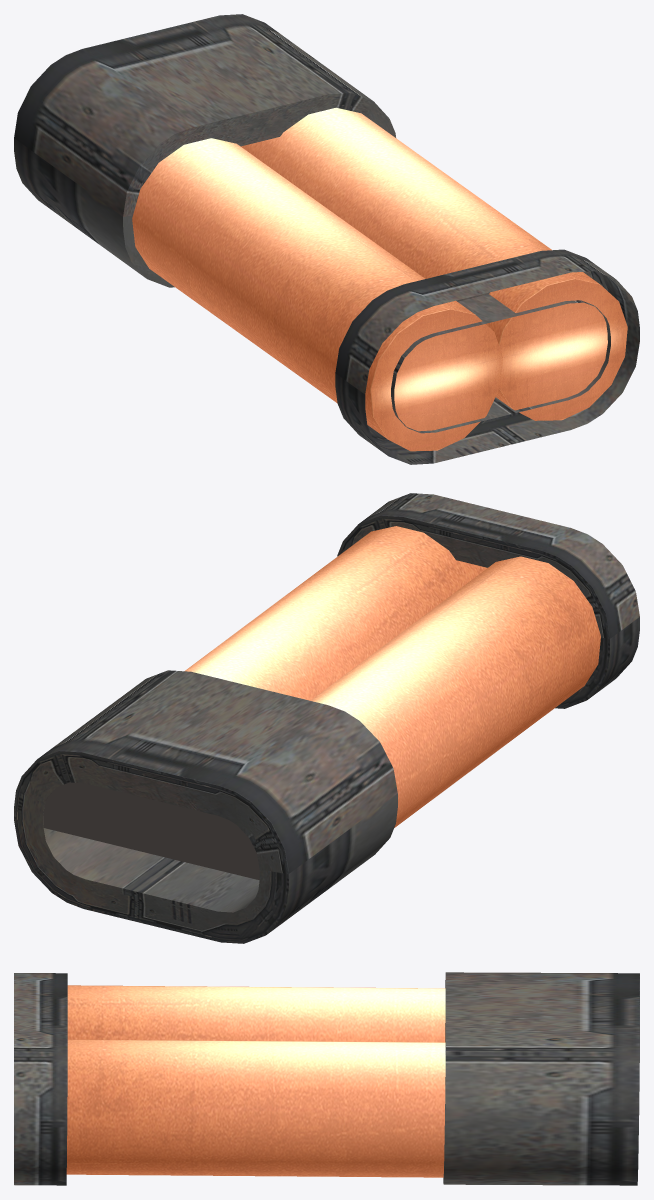
Rendered from heat-pipe-ending-down.glb.
3 views of the same model, one above another, from view 1: azimuth 30°, elevation 25°; view 2: azimuth 150°, elevation 25°; view 3: azimuth 270°, elevation 25° (orthographic). The views are drawn at different scales.
Parts seen in each view (by area): view 1: heat-pipe-ending-down; view 2: heat-pipe-ending-down; view 3: heat-pipe-ending-down.
Part boxes in pixels (x1,y1,x2,y2): heat-pipe-ending-down: [14, 14, 639, 464]; heat-pipe-ending-down: [14, 493, 639, 943]; heat-pipe-ending-down: [14, 972, 639, 1185].
Size of the model in its own units: 0.3878 by 0.2136 by 0.86.
Materials: 2 (2 with a texture image).
